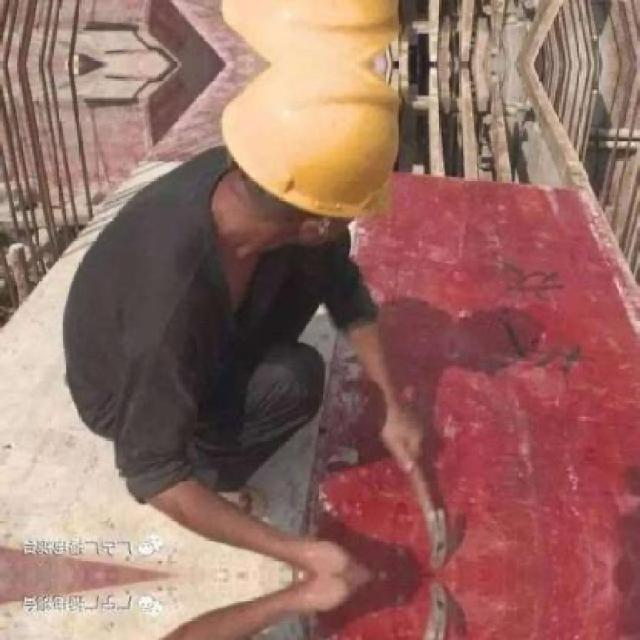con casco: (208, 62, 406, 242)
